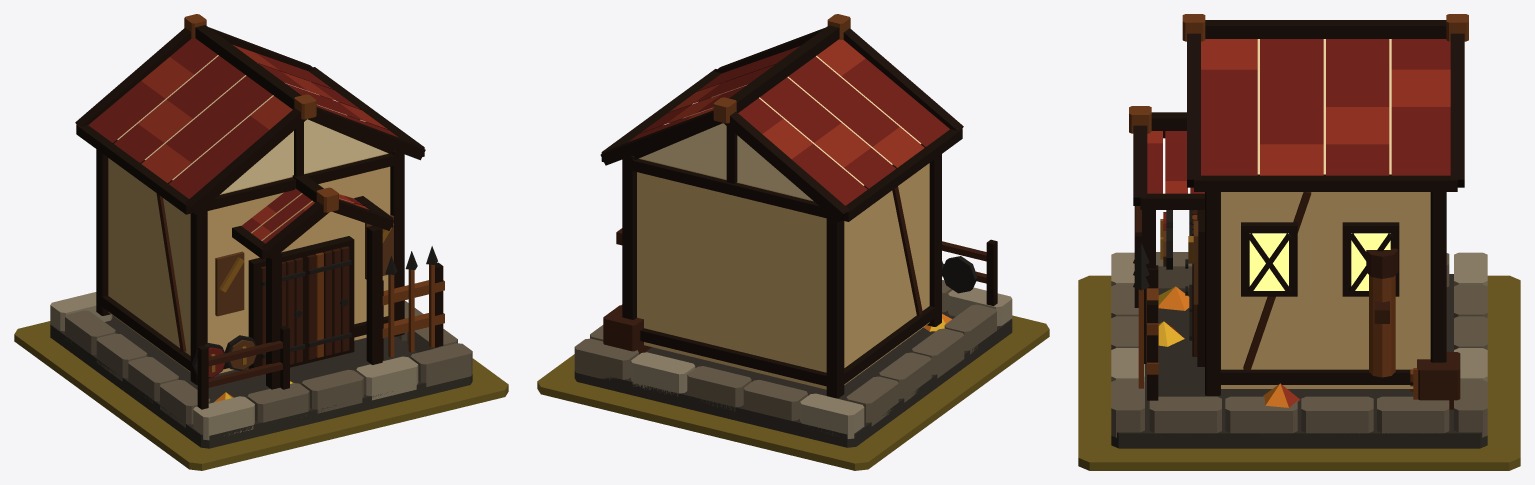
The model's file is barracks_t4.glb.
3 renders of one model, left to right at view 1: azimuth 30°, elevation 25°; view 2: azimuth 150°, elevation 25°; view 3: azimuth 270°, elevation 25°, orthographic. The views are drawn at different scales.
Visible parts, largest first — view 1: MMR | barracks | T04 Architecture.001, MMR | barracks | Tier 04 Ground.001, MMR | barracks | T04 Banner Flag 1.001, MMR | barracks | T04 Banner Flag 2.001; view 2: MMR | barracks | T04 Architecture.001, MMR | barracks | Tier 04 Ground.001; view 3: MMR | barracks | T04 Architecture.001, MMR | barracks | Tier 04 Ground.001, MMR | barracks | T04 Autumn Dressing.001, MMR | barracks | T04 Banner Flag 2.001.
Part boxes in pixels (x1=…): MMR | barracks | T04 Architecture.001: x1=50, y1=14, x2=472, y2=448; MMR | barracks | Tier 04 Ground.001: x1=14, y1=321, x2=508, y2=470; MMR | barracks | T04 Banner Flag 1.001: x1=215, y1=251, x2=244, y2=316; MMR | barracks | T04 Banner Flag 2.001: x1=365, y1=215, x2=393, y2=279; MMR | barracks | T04 Architecture.001: x1=574, y1=14, x2=1012, y2=447; MMR | barracks | Tier 04 Ground.001: x1=537, y1=315, x2=1049, y2=470; MMR | barracks | T04 Architecture.001: x1=1111, y1=14, x2=1487, y2=448; MMR | barracks | Tier 04 Ground.001: x1=1078, y1=275, x2=1520, y2=470; MMR | barracks | T04 Autumn Dressing.001: x1=1158, y1=286, x2=1300, y2=407; MMR | barracks | T04 Banner Flag 2.001: x1=1193, y1=220, x2=1198, y2=304.
Size of the model in its own units: 2.35 by 2.11 by 2.35.
Materials: 2 (1 with a texture image).
